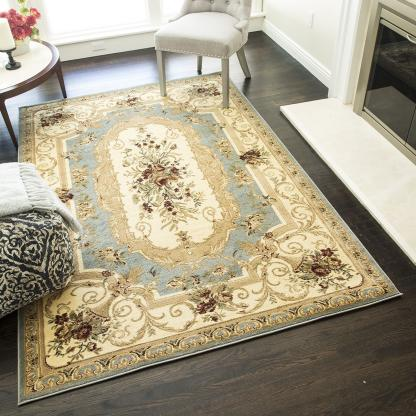Carpet: (18, 70, 402, 405)
